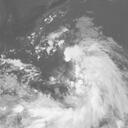cyclone: (33, 32, 98, 102)
